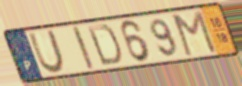6: (119, 18, 153, 65)
9: (148, 16, 180, 58)
D: (84, 23, 124, 68)
I: (70, 25, 97, 71)
M: (171, 9, 219, 59)
U: (27, 28, 67, 75)
